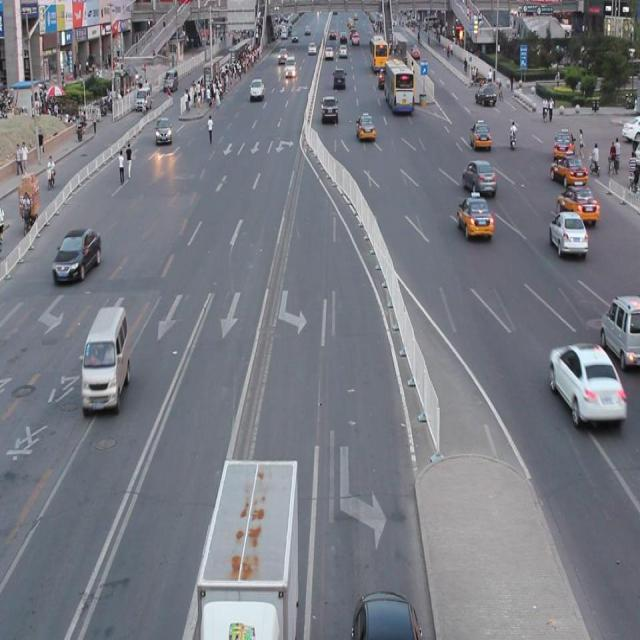bus: (194, 456, 298, 640)
car: (547, 341, 624, 421), (348, 586, 421, 640), (599, 294, 640, 364), (53, 227, 102, 283), (554, 182, 598, 222), (548, 210, 587, 255), (455, 194, 492, 238), (461, 159, 495, 195), (548, 155, 586, 186)
truck: (82, 306, 130, 410)
